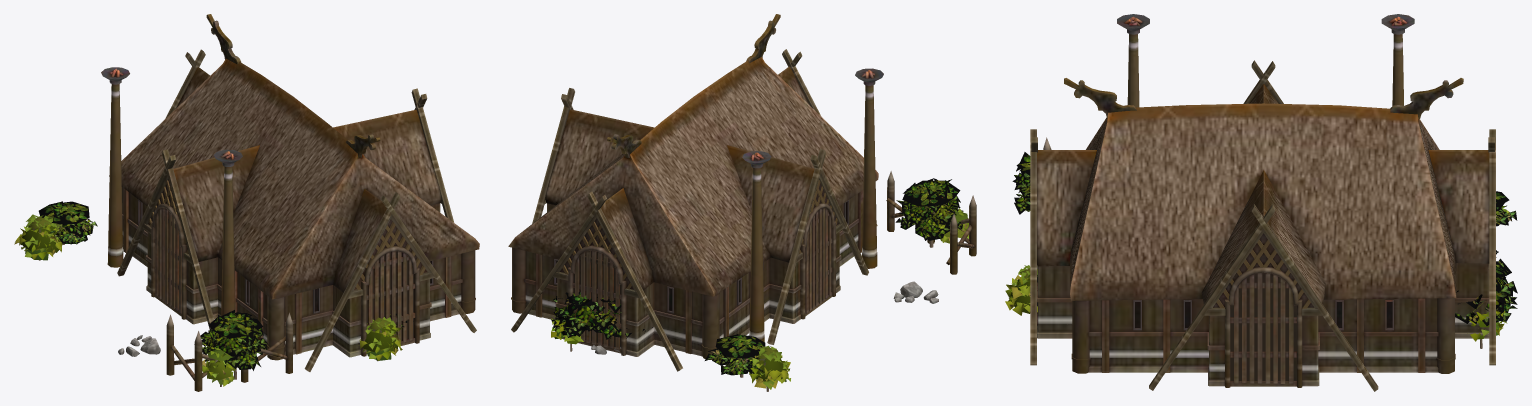
The model's file is 23-temple.glb.
The picture shows the model from 3 angles, left to right: view 1: azimuth 30°, elevation 25°; view 2: azimuth 150°, elevation 25°; view 3: azimuth 270°, elevation 25°; orthographic projection. The views are drawn at different scales.
Size of the model in its own units: 9.65 by 5.85 by 10.78.
10 materials, 10 textured.
